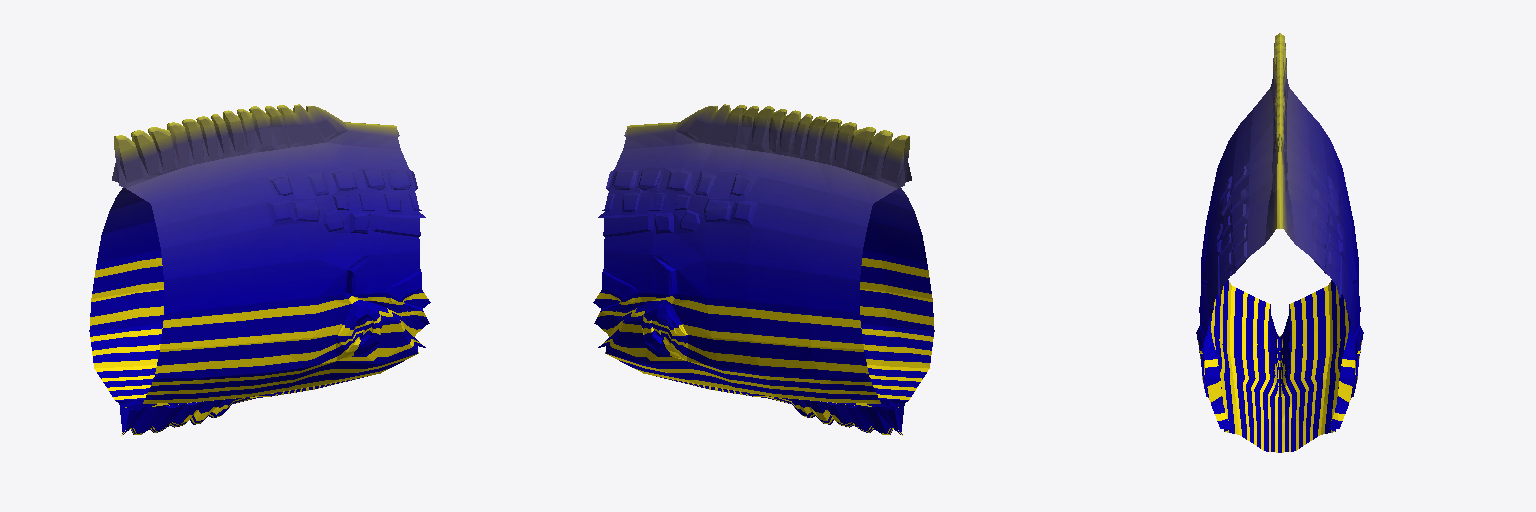
The picture shows the model from 3 angles: view 1: azimuth 30°, elevation 25°; view 2: azimuth 150°, elevation 25°; view 3: azimuth 270°, elevation 25°; orthographic projection.
Parts seen in each view (by area): view 1: main_polySurface633_group1; view 2: main_polySurface633_group1; view 3: main_polySurface633_group1.
Boxes of the visible parts, x1=… form: main_polySurface633_group1: x1=89, y1=104, x2=430, y2=435; main_polySurface633_group1: x1=593, y1=104, x2=934, y2=435; main_polySurface633_group1: x1=1196, y1=33, x2=1363, y2=452.
Bounding box in the file's own units: 2.57 × 2.69 × 1.32.
1 materials, 1 textured.